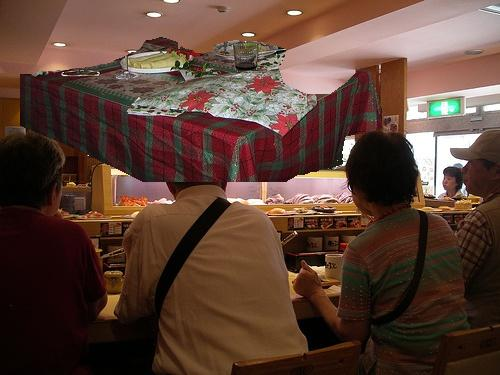tampered: (21, 38, 382, 182)
